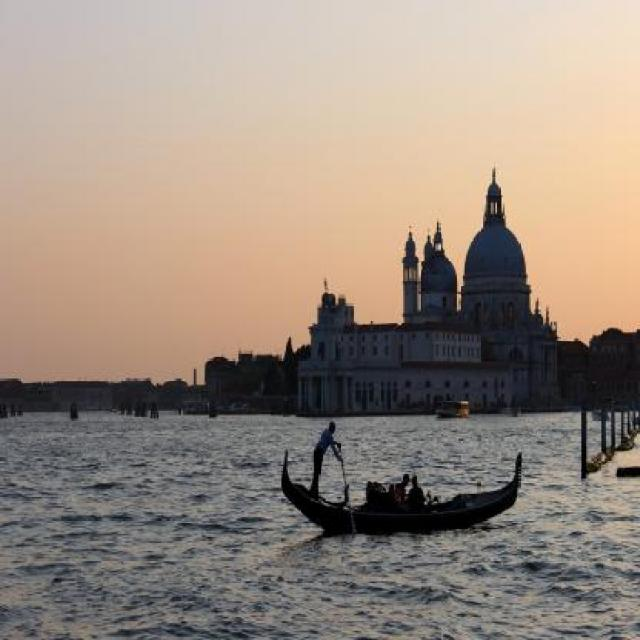ship: (278, 448, 520, 532)
